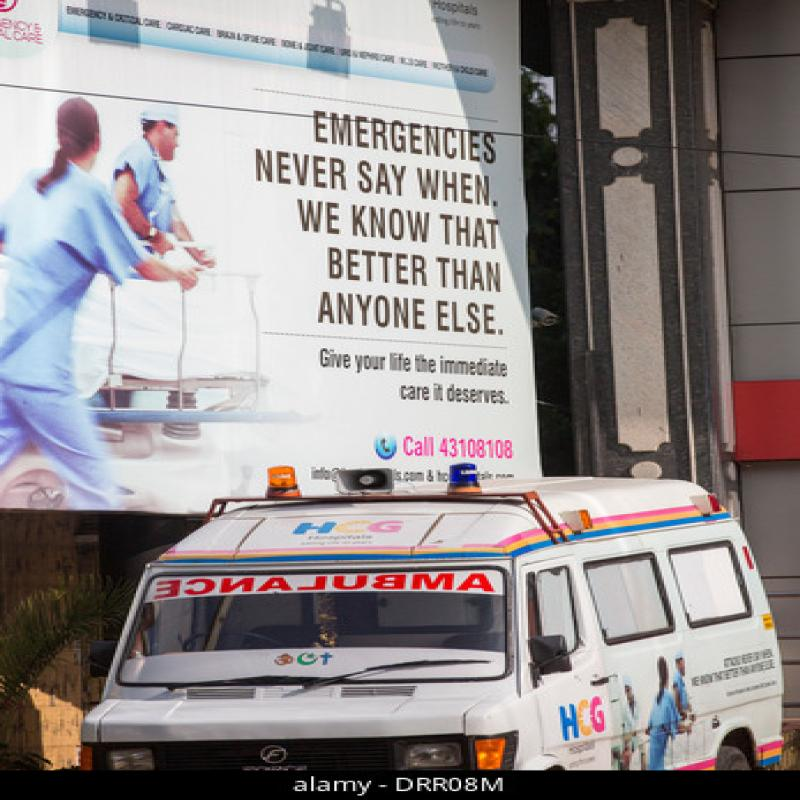ambulance: (47, 432, 731, 780)
